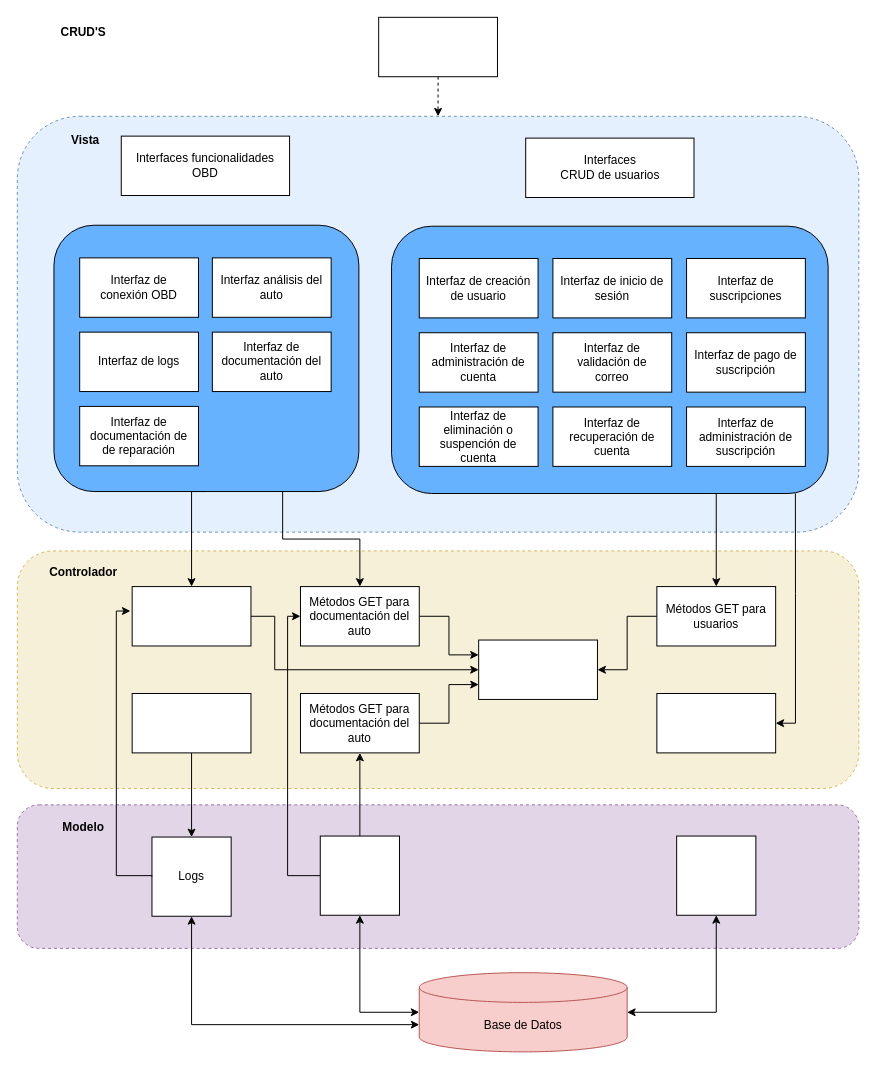
The diagram is 876 pixels wide and 1069 high, and some of its shapes have lost their labels. The centre of each missing label's shape, as x and y in pixels:
Actualizar vista: [537,669]
Autos: [359,875]
Metodos SET para usuarios: [716,723]
Métodos GET para logs: [191,616]
Métodos S ET par a logs: [191,723]
Solicitudes GET/POST: [437,46]
Usuarios (Free y Premium): [716,875]
